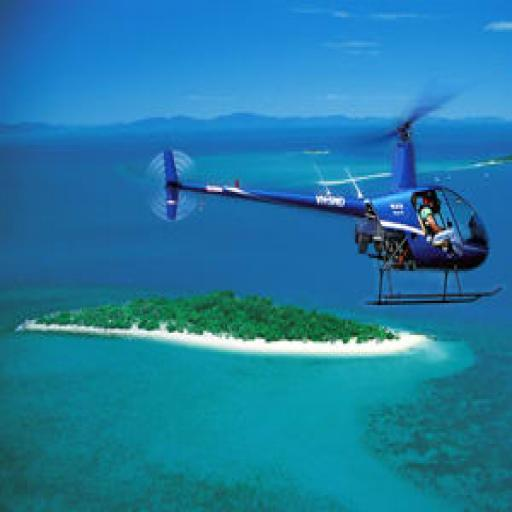helicopter: (146, 95, 501, 310)
